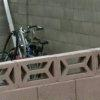Bicycle: (5, 22, 49, 78)
